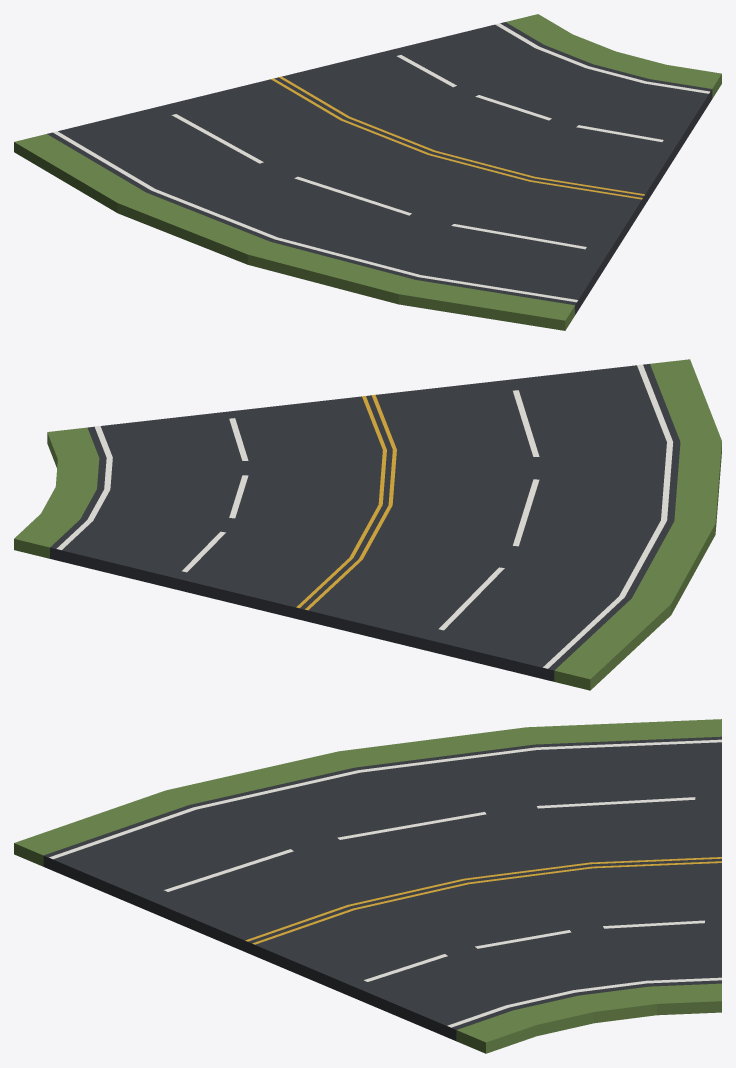
File: Road_4Lane_NoSidewalk_Curve45_L.glb
The picture shows the model from 3 angles, top to bottom: view 1: azimuth 30°, elevation 25°; view 2: azimuth 150°, elevation 25°; view 3: azimuth 270°, elevation 25°; orthographic projection. The views are drawn at different scales.
Parts seen in each view (by area): view 1: Road_4Lane_NoSidewalk_Curve45_L_Asphalt, Road_4Lane_NoSidewalk_Curve45_L_Grass-edge, Road_4Lane_NoSidewalk_Curve45_L_PaintWhite, Road_4Lane_NoSidewalk_Curve45_L_PaintYellow; view 2: Road_4Lane_NoSidewalk_Curve45_L_Asphalt, Road_4Lane_NoSidewalk_Curve45_L_Grass-edge, Road_4Lane_NoSidewalk_Curve45_L_PaintWhite, Road_4Lane_NoSidewalk_Curve45_L_PaintYellow; view 3: Road_4Lane_NoSidewalk_Curve45_L_Asphalt, Road_4Lane_NoSidewalk_Curve45_L_Grass-edge, Road_4Lane_NoSidewalk_Curve45_L_PaintWhite, Road_4Lane_NoSidewalk_Curve45_L_PaintYellow.
Boxes of the visible parts, bbox=[...] form: Road_4Lane_NoSidewalk_Curve45_L_Asphalt: bbox=[47, 22, 712, 314]; Road_4Lane_NoSidewalk_Curve45_L_Grass-edge: bbox=[14, 14, 721, 330]; Road_4Lane_NoSidewalk_Curve45_L_PaintWhite: bbox=[53, 23, 709, 302]; Road_4Lane_NoSidewalk_Curve45_L_PaintYellow: bbox=[271, 76, 644, 199]; Road_4Lane_NoSidewalk_Curve45_L_Asphalt: bbox=[50, 364, 680, 681]; Road_4Lane_NoSidewalk_Curve45_L_Grass-edge: bbox=[14, 359, 721, 690]; Road_4Lane_NoSidewalk_Curve45_L_PaintWhite: bbox=[56, 364, 673, 668]; Road_4Lane_NoSidewalk_Curve45_L_PaintYellow: bbox=[296, 394, 396, 610]; Road_4Lane_NoSidewalk_Curve45_L_Asphalt: bbox=[43, 736, 721, 1040]; Road_4Lane_NoSidewalk_Curve45_L_Grass-edge: bbox=[14, 719, 721, 1053]; Road_4Lane_NoSidewalk_Curve45_L_PaintWhite: bbox=[49, 739, 721, 1027]; Road_4Lane_NoSidewalk_Curve45_L_PaintYellow: bbox=[245, 857, 721, 944].
Bounding box in the file's own units: 18.34 × 0.305 × 16.97.
